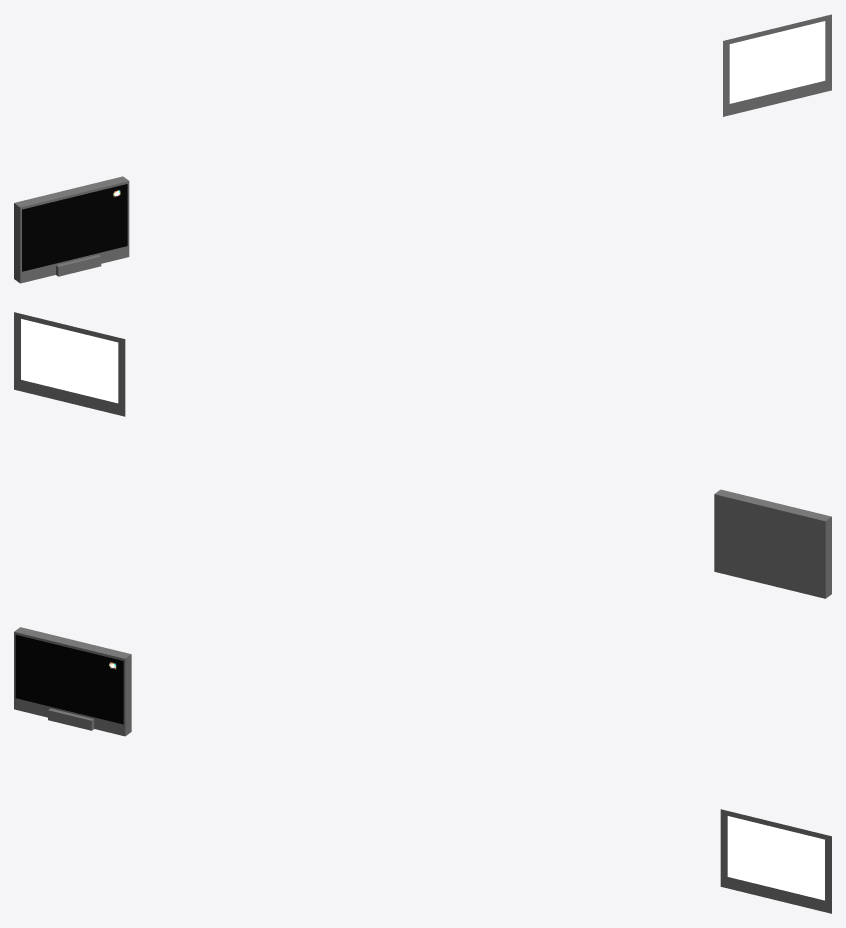
Rendered from FirstScreen.glb.
3 renders of one model, top to bottom at view 1: azimuth 30°, elevation 25°; view 2: azimuth 150°, elevation 25°; view 3: azimuth 330°, elevation 25°, orthographic. The views are drawn at different scales.
Parts seen in each view (by area): view 1: Cube.001, Cube.005, Cube.033; view 2: Cube.001, Cube.005; view 3: Cube.001, Cube.005, Cube.033.
Boxes of the visible parts, x1,y1,x2,y2 form: Cube.001: (14,176,129,283); Cube.005: (723,14,831,116); Cube.033: (56,255,101,276); Cube.001: (714,489,831,598); Cube.005: (14,312,125,416); Cube.001: (14,627,131,736); Cube.005: (720,809,831,913); Cube.033: (48,708,94,730).
Bounding box in the file's own units: 395 × 35.63 × 9.57.
3 materials, 2 textured.
